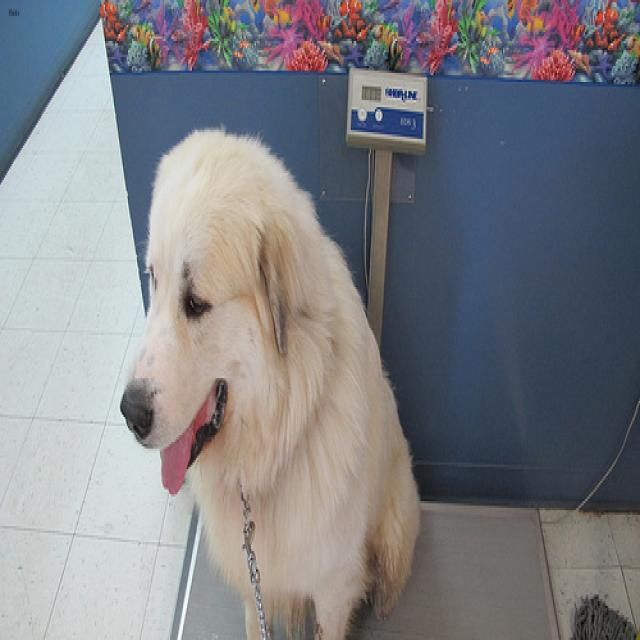dog-great_pyrenees: (111, 112, 426, 635)
